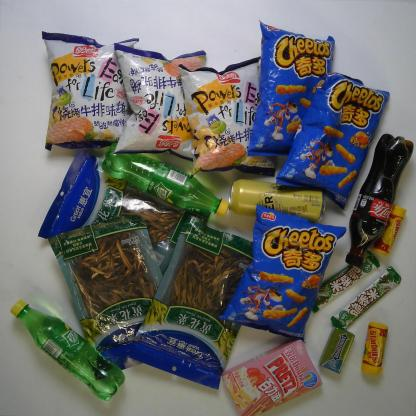Alcohol: (229, 179, 329, 223)
Candy: (372, 203, 407, 254), (361, 322, 389, 377)
Chocolate: (332, 266, 402, 332), (313, 252, 382, 312)
Dessert: (221, 339, 323, 416)
Dried Food: (126, 210, 261, 391), (38, 147, 212, 279), (45, 214, 163, 372)
Drink: (7, 298, 126, 400), (101, 140, 230, 217), (345, 133, 415, 266)
Gum: (320, 327, 355, 374)
Puffed Food: (220, 203, 348, 341), (278, 71, 390, 212), (246, 20, 342, 159), (175, 54, 280, 180), (36, 28, 139, 152), (111, 43, 212, 162)
